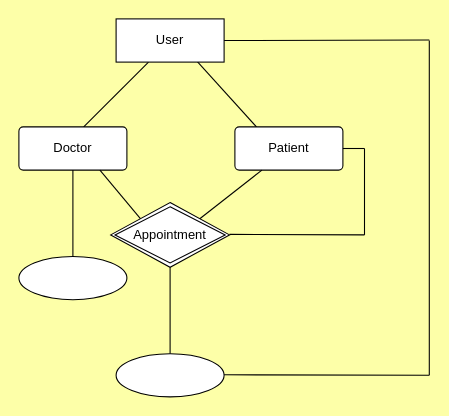
The diagram is 449 pixels wide and 416 high, and some of its shapes have lost their labels. Each missing label, with the centre of its shape:
"Availability" goes at (72,277).
"Notification" goes at (169,375).
